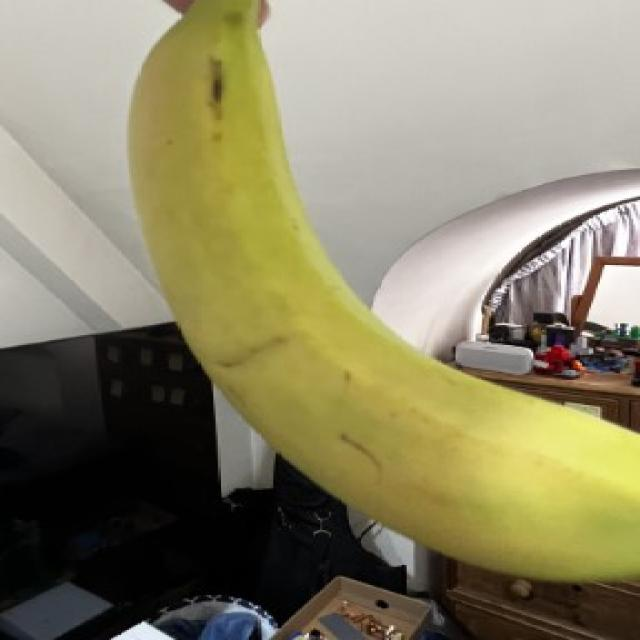Unripe: (101, 0, 640, 598)
